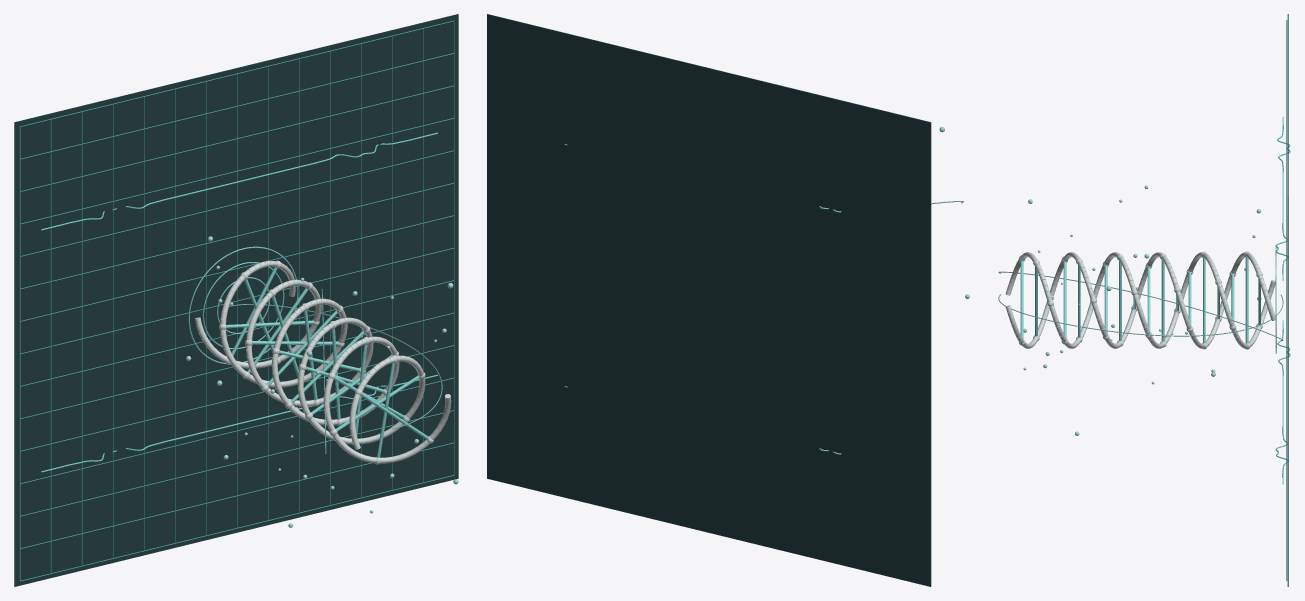
The model's file is dna-hologram.glb.
3 renders of one model, left to right at view 1: azimuth 30°, elevation 25°; view 2: azimuth 150°, elevation 25°; view 3: azimuth 270°, elevation 25°, orthographic. The views are drawn at different scales.
Parts seen in each view (by area): view 1: part_1266, part_709, part_711, part_710, part_724, part_738, part_737, part_733, part_735, part_736, part_734, part_732 (+3 smaller); view 2: part_1266; view 3: part_1266.
Part boxes in pixels (x1,y1,x2,y2): part_1266: [14, 14, 458, 586]; part_709: [19, 127, 20, 581]; part_711: [81, 112, 82, 566]; part_710: [50, 119, 51, 573]; part_724: [20, 475, 454, 581]; part_738: [20, 20, 454, 126]; part_737: [20, 53, 454, 159]; part_733: [20, 183, 454, 289]; part_735: [20, 118, 454, 224]; part_736: [20, 85, 453, 191]; part_734: [20, 150, 454, 256]; part_732: [20, 215, 454, 321]; part_1266: [487, 14, 931, 586]; part_1266: [1287, 14, 1288, 586].
Size of the model in its own units: 9.4 by 9.4 by 6.37.
